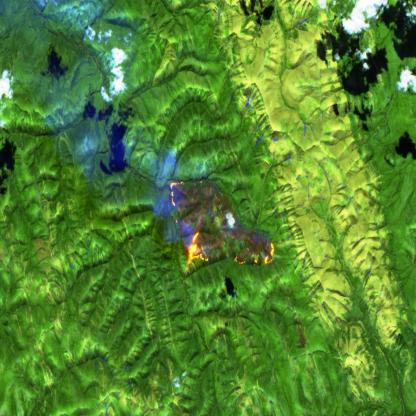fire: (167, 179, 276, 278)
